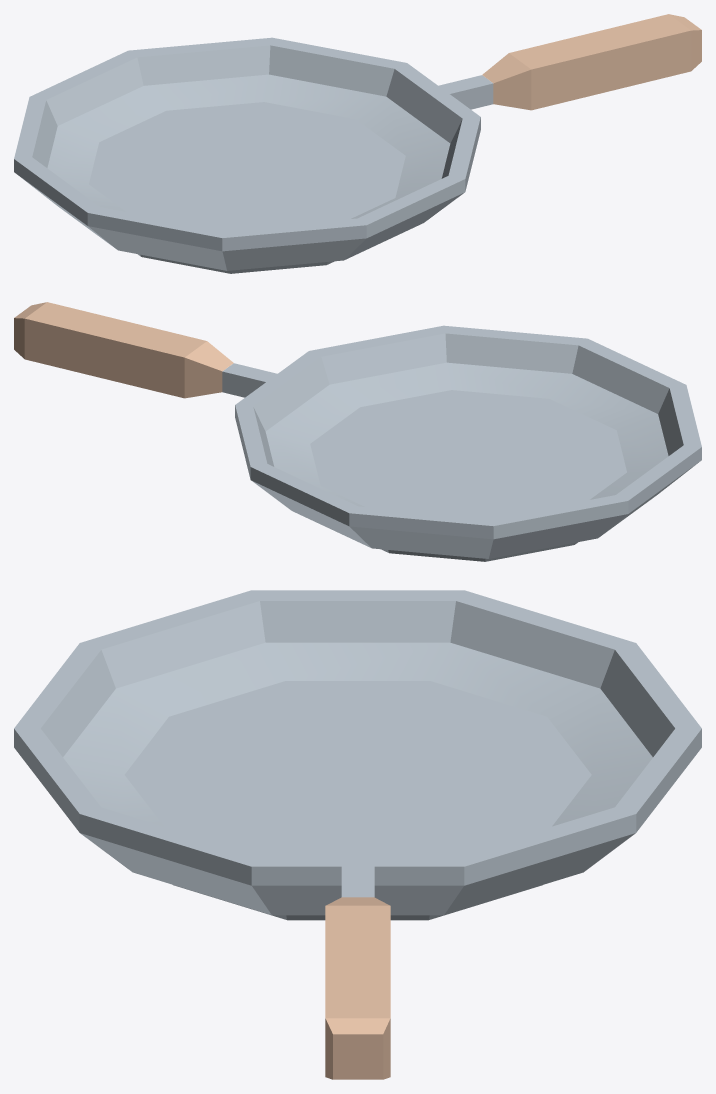
Rendered from frying-pan.glb.
The picture shows the model from 3 angles, top to bottom: view 1: azimuth 30°, elevation 25°; view 2: azimuth 150°, elevation 25°; view 3: azimuth 270°, elevation 25°; orthographic projection. The views are drawn at different scales.
Parts seen in each view (by area): view 1: fryingPan; view 2: fryingPan; view 3: fryingPan.
Part boxes in pixels (bbox=[...]): fryingPan: bbox=[14, 14, 701, 273]; fryingPan: bbox=[14, 302, 701, 561]; fryingPan: bbox=[14, 590, 701, 1079].
Size of the model in its own units: 1.02 by 0.1206 by 0.6574.
